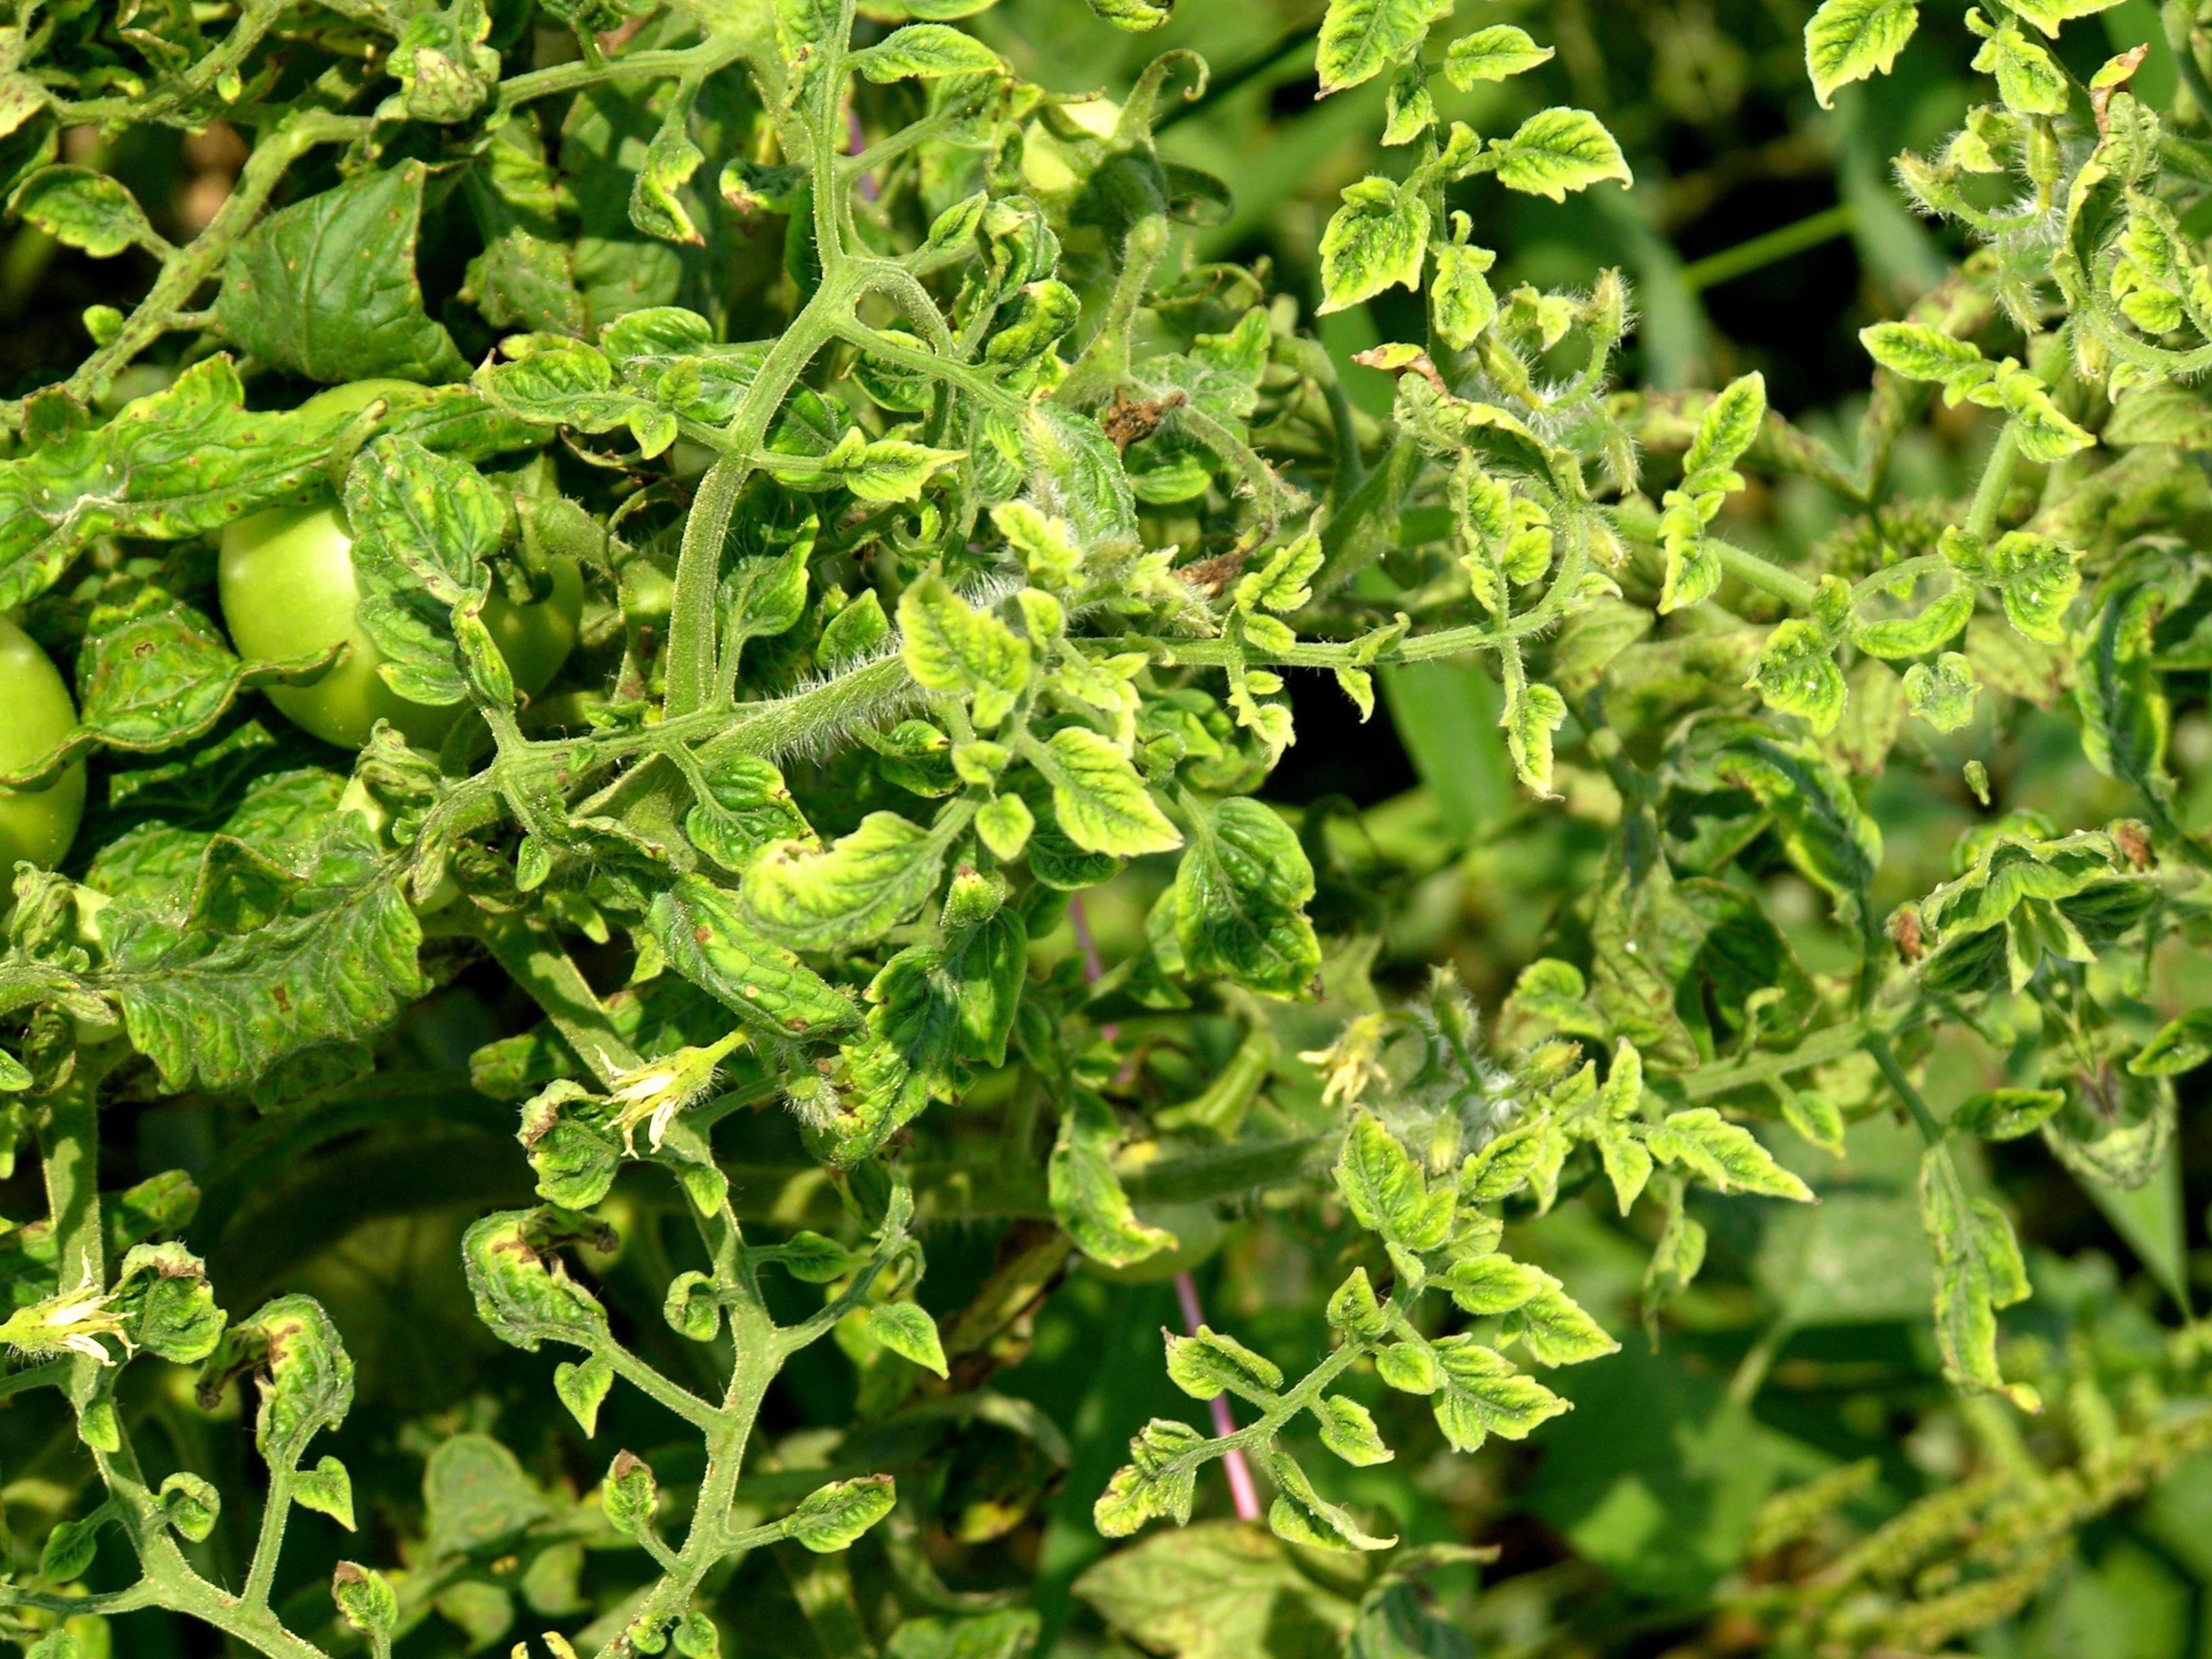Tomato leaf yellow virus: (242, 319, 590, 784), (40, 283, 377, 574), (1102, 755, 1379, 1086), (848, 508, 1117, 822), (398, 261, 705, 516), (619, 829, 892, 1113), (420, 1158, 657, 1420), (1326, 1276, 1575, 1507), (717, 779, 966, 987), (1003, 678, 1225, 912), (1242, 149, 1477, 362), (1457, 48, 1671, 246), (1036, 1371, 1240, 1573), (1633, 1048, 1828, 1256), (1429, 428, 1593, 647), (1713, 596, 1886, 790), (1247, 0, 1504, 131), (1448, 658, 1609, 838), (1485, 1236, 1623, 1390), (1604, 499, 1744, 637), (1041, 0, 1347, 60), (569, 1623, 931, 1659), (840, 0, 1074, 55)
